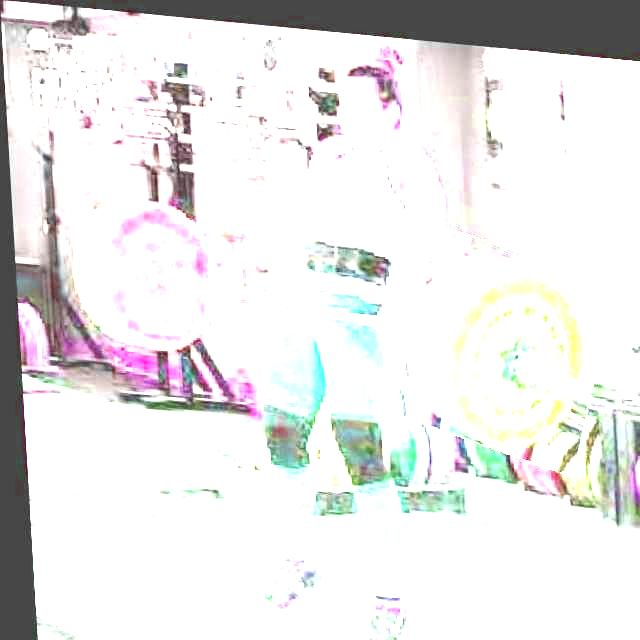barbell: (390, 222, 607, 460)
